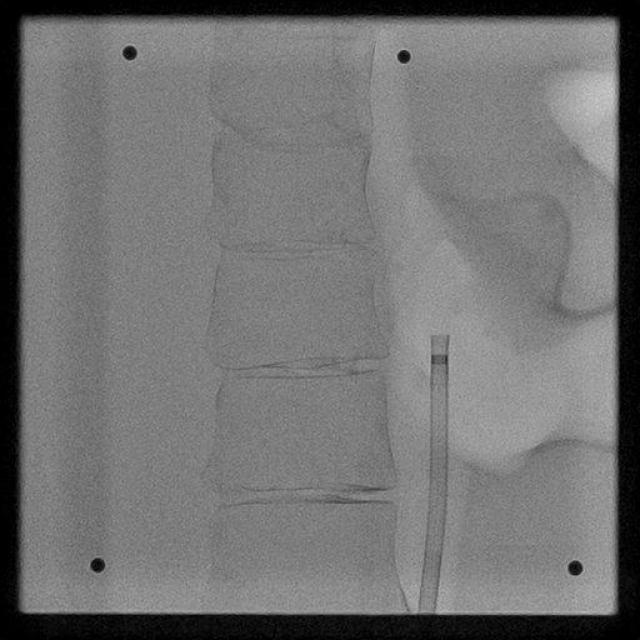bend: (425, 541, 444, 554)
entry: (418, 608, 437, 614)
marker: (430, 352, 450, 367)
tip: (430, 333, 450, 340)
